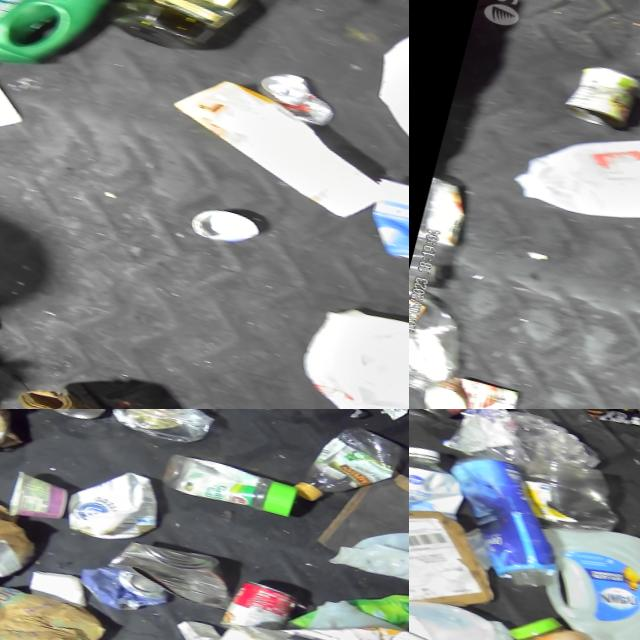can: (103, 529, 240, 611), (73, 557, 175, 620), (558, 55, 640, 133), (252, 62, 344, 128), (220, 575, 303, 640), (414, 366, 527, 409), (417, 173, 476, 250), (185, 200, 271, 252), (409, 409, 508, 429), (576, 409, 640, 437), (39, 409, 112, 422)
milk_jug: (507, 101, 640, 246), (523, 514, 640, 640), (285, 294, 409, 409), (61, 458, 168, 550), (327, 509, 409, 603), (359, 25, 409, 170), (409, 577, 521, 640)
non_white_jug: (0, 0, 125, 98), (104, 0, 276, 66)
plastic_bottle: (292, 414, 409, 520)
